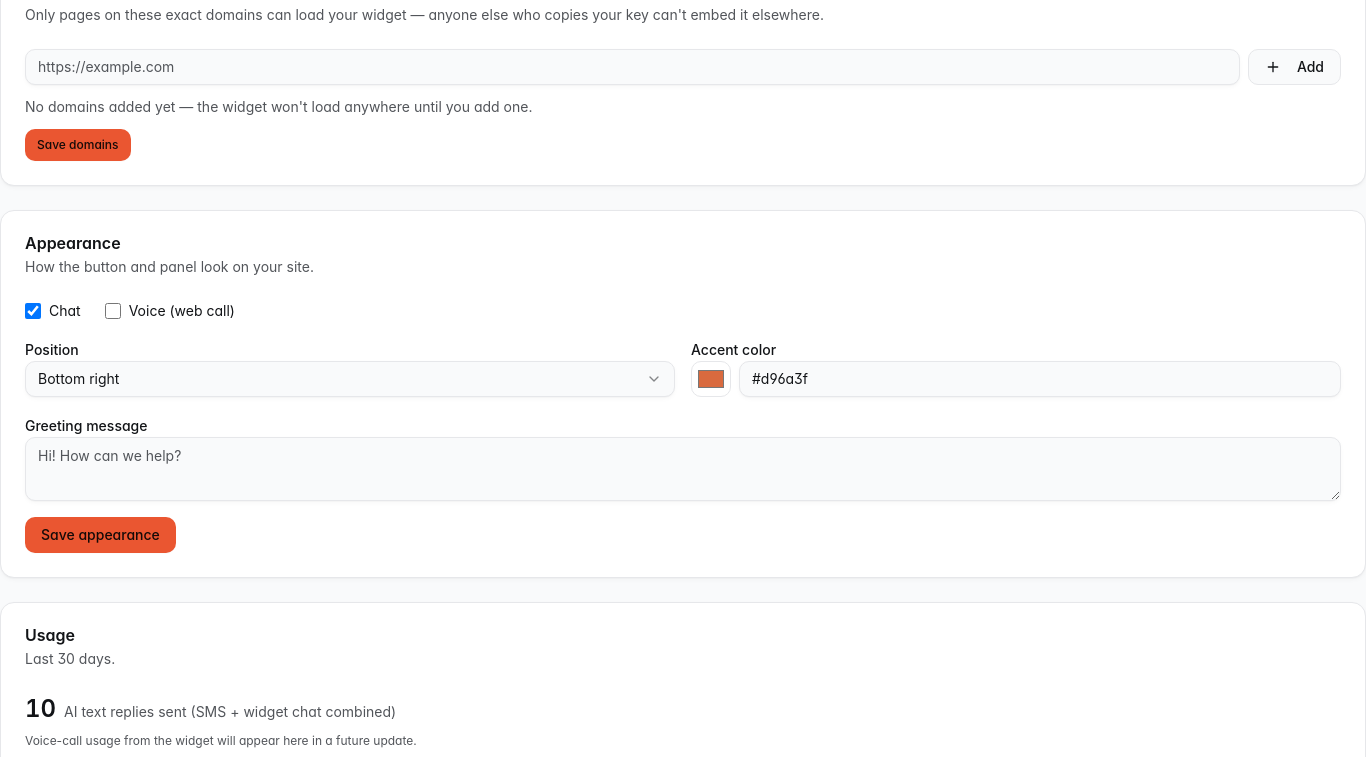
Test: WebsiteWidgetClient › QA-1 F-13: a non-hex accent is rejected inline and nothing is sent
(page scrolled)
Replace the text in the field named "Accent color (hex)" with "orange" at (1040, 379), box x1=739 y1=361 x2=1341 y2=397
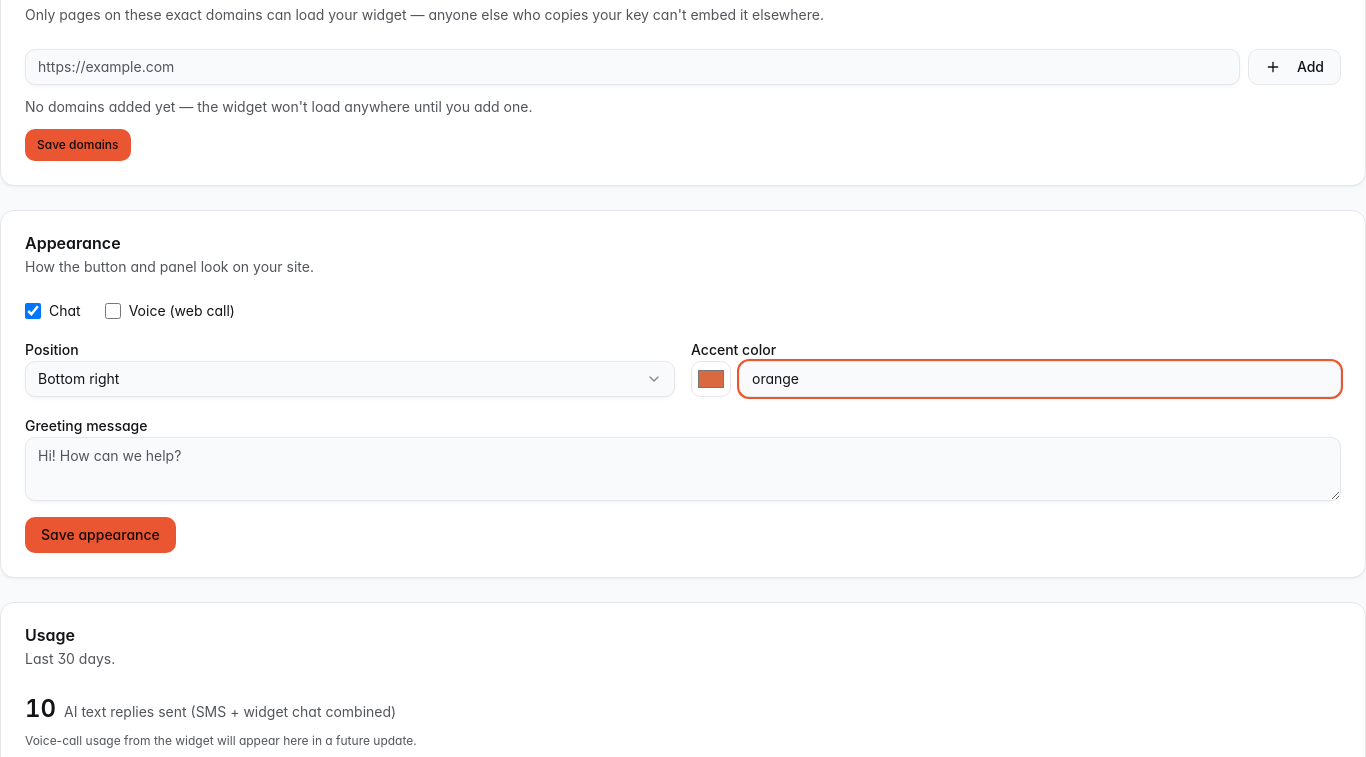
Click the button "Save appearance" at (100, 535), box x1=25 y1=517 x2=176 y2=553
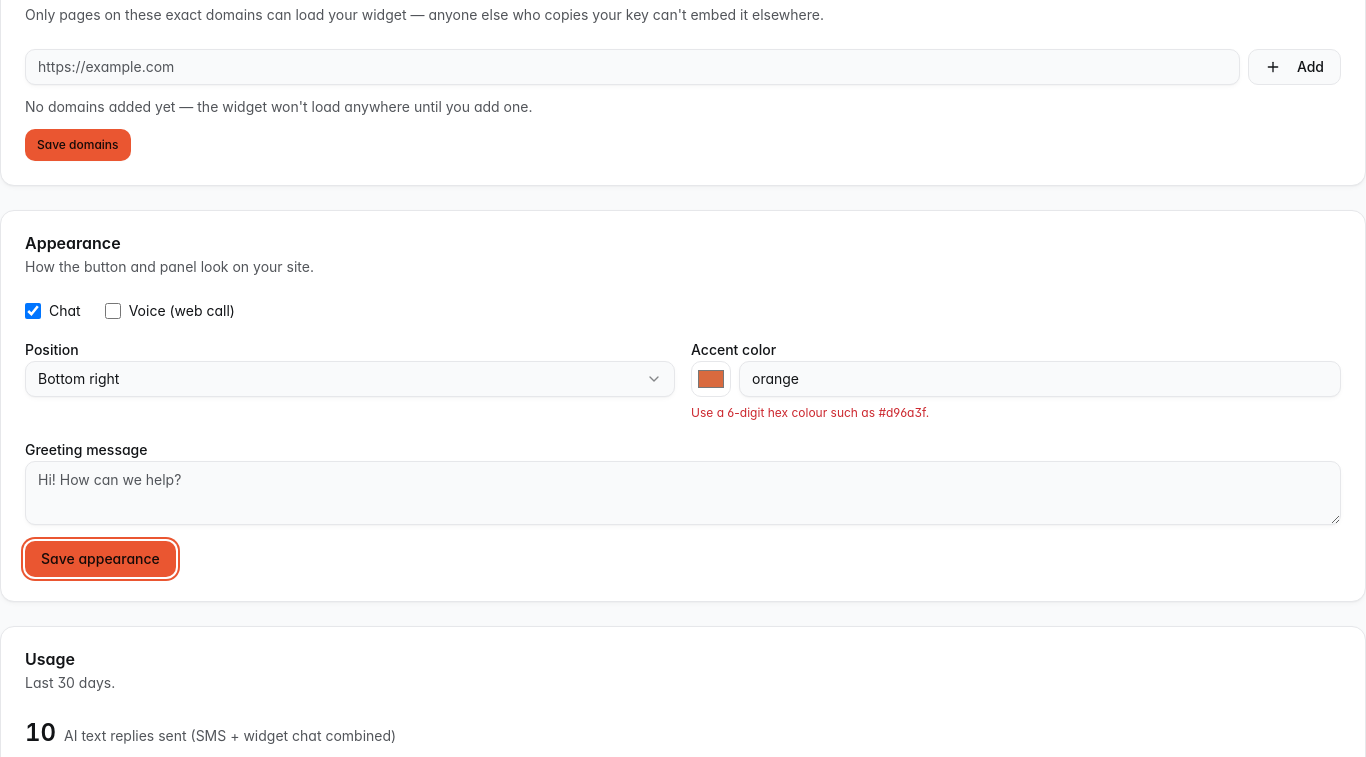
Now the text "Use a 6-digit hex colour such as #d96a3f." is shown, box x1=691 y1=405 x2=929 y2=420
